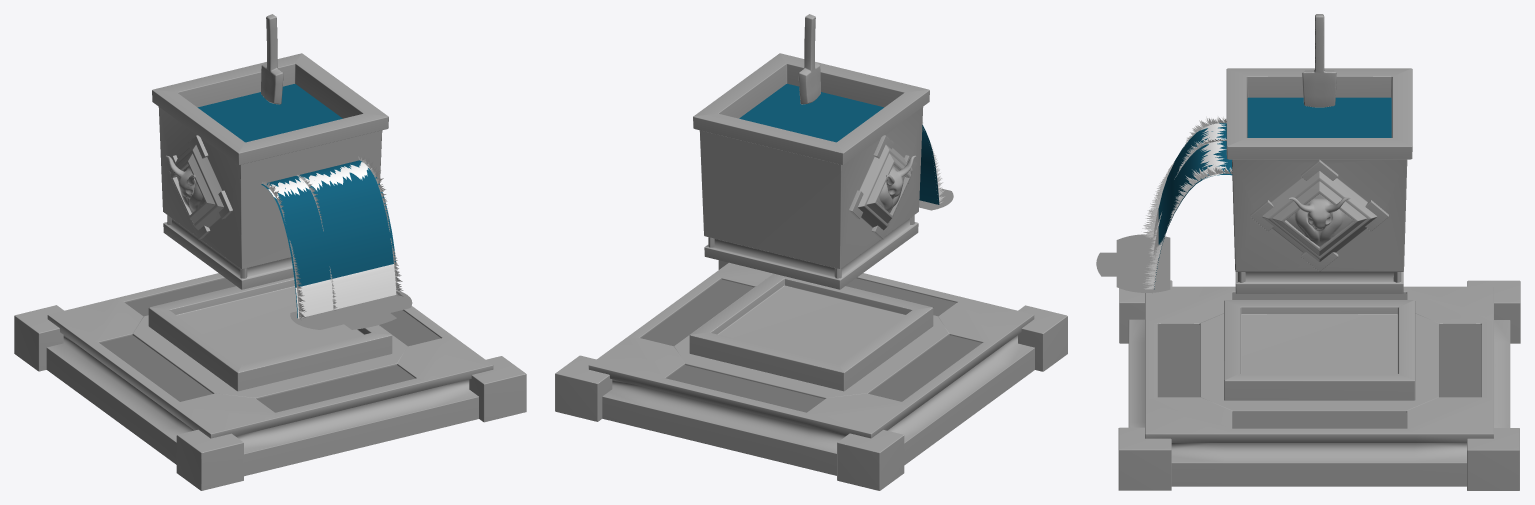
Rendered from Cauldron.fbx.
3 renders of one model, left to right at view 1: azimuth 30°, elevation 25°; view 2: azimuth 150°, elevation 25°; view 3: azimuth 270°, elevation 25°, orthographic. The views are drawn at different scales.
Visible parts, largest first — view 1: Cauldron, Cauldron_Container, Liquid, Cauldron_Container_Liquid, Grid_BOT, Grid_R, Bot_Edge_Slow, Surface_Drop_02, Spoon, Edges_Side, Grid_L, Grid_TOP (+2 smaller); view 2: Cauldron, Cauldron_Container, Cauldron_Container_Liquid, Grid_BOT, Grid_TOP, Grid_L, Spoon, Grid_R, Liquid; view 3: Cauldron, Cauldron_Container, Cauldron_Container_Liquid, Grid_L, Grid_R, Grid_TOP, Surface_Drop_02, Liquid, Edges_Side, Spoon, Grid_BOT, Top_Edge_Slow (+1 smaller).
Part boxes in pixels (x1,y1,x2,y2): Cauldron: [14, 273, 526, 490]; Cauldron_Container: [152, 53, 388, 289]; Liquid: [261, 160, 395, 317]; Cauldron_Container_Liquid: [197, 84, 342, 142]; Grid_BOT: [100, 335, 212, 401]; Grid_R: [257, 365, 415, 412]; Bot_Edge_Slow: [296, 270, 398, 318]; Surface_Drop_02: [290, 291, 412, 329]; Spoon: [261, 14, 283, 104]; Edges_Side: [262, 155, 403, 320]; Grid_L: [125, 278, 235, 316]; Grid_TOP: [379, 310, 440, 346]; Cauldron: [555, 260, 1067, 490]; Cauldron_Container: [693, 53, 929, 289]; Cauldron_Container_Liquid: [739, 83, 883, 142]; Grid_BOT: [869, 335, 981, 401]; Grid_TOP: [641, 279, 753, 346]; Grid_L: [666, 365, 824, 412]; Spoon: [798, 14, 820, 104]; Grid_R: [846, 278, 956, 316]; Liquid: [919, 125, 939, 204]; Cauldron: [1118, 280, 1520, 490]; Cauldron_Container: [1226, 68, 1412, 293]; Cauldron_Container_Liquid: [1247, 97, 1391, 137]; Grid_L: [1439, 325, 1481, 397]; Grid_R: [1158, 325, 1199, 397]; Grid_TOP: [1232, 412, 1406, 428]; Surface_Drop_02: [1096, 234, 1170, 292]; Liquid: [1154, 123, 1232, 289]; Edges_Side: [1142, 116, 1232, 289]; Spoon: [1302, 14, 1336, 107]; Grid_BOT: [1232, 293, 1406, 299]; Top_Edge_Slow: [1200, 123, 1226, 178].
Size of the model in its own units: 2.91 by 3.12 by 3.07.
